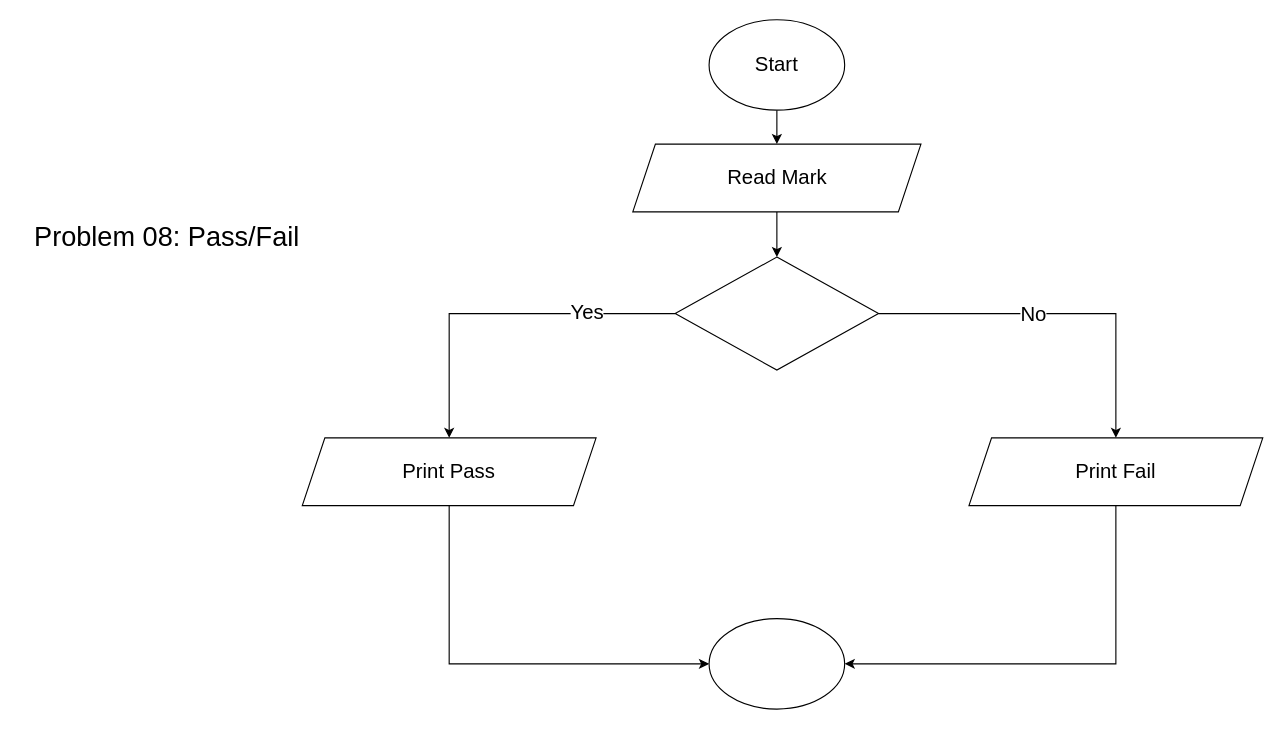
Some shapes in this 1283 by 729 pixel diagram are drawn without their labels. The shapes that lost their labels are listed below. From the top down, each one's centre as x and y in pixels, then its label:
At (x=776, y=313): "Mark >= 50".
At (x=776, y=663): "End".
